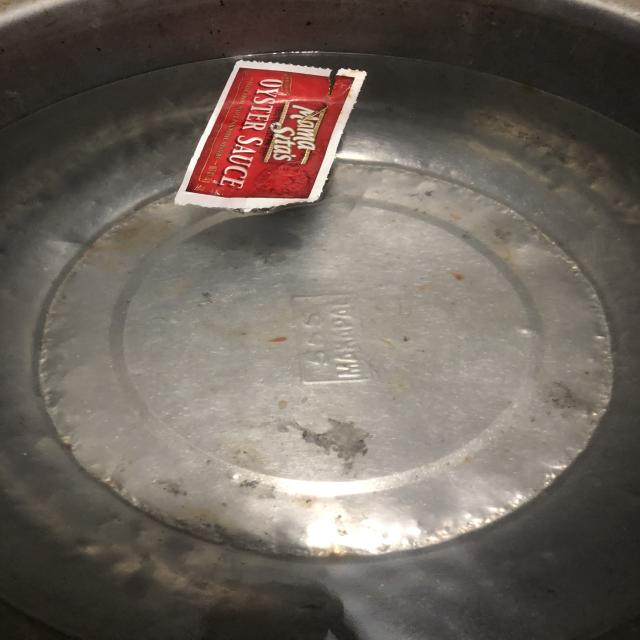Plastic Wrapper: (175, 60, 365, 212)
